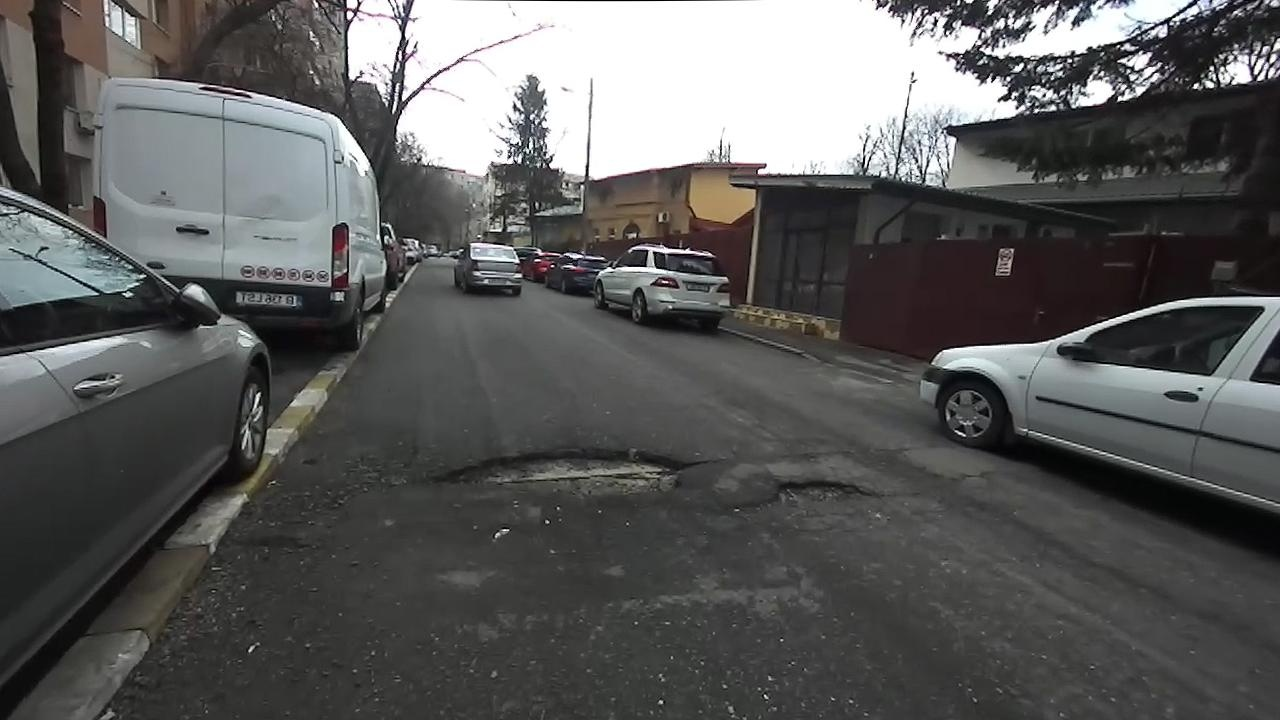pothole: (416, 438, 697, 501), (742, 472, 879, 511)
